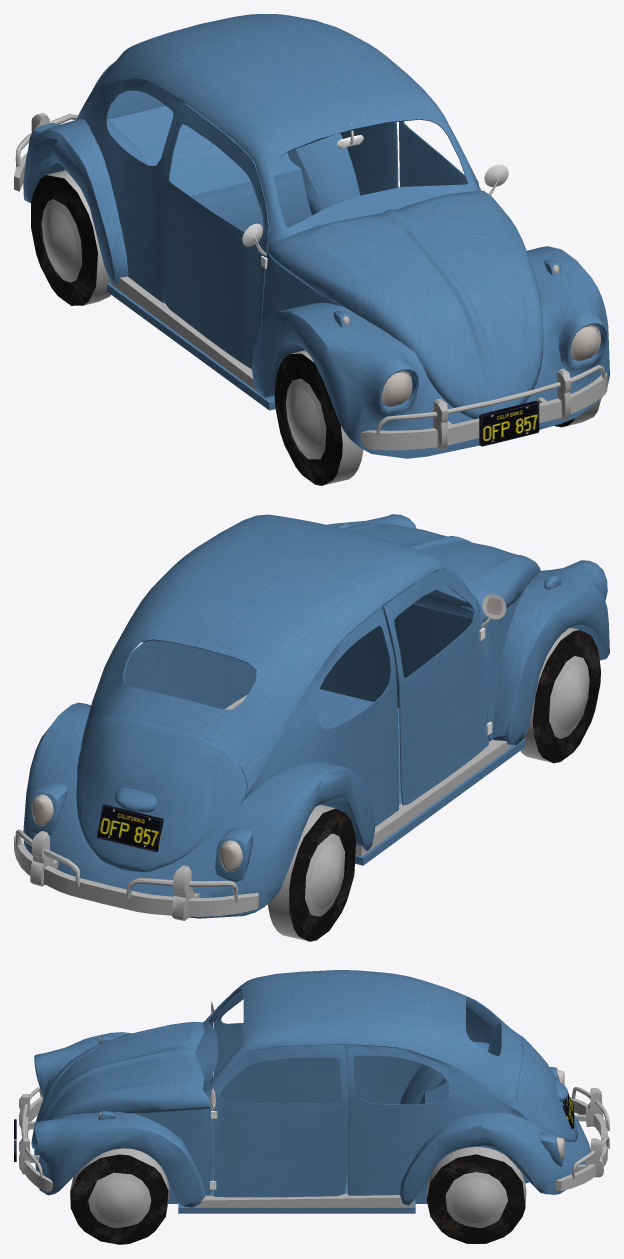
File: volkswagen-fusca.glb
3 views of the same model, one above another, from view 1: azimuth 30°, elevation 25°; view 2: azimuth 150°, elevation 25°; view 3: azimuth 270°, elevation 25° (orthographic). The views are drawn at different scales.
Parts seen in each view (by area): view 1: Cube.008, Plane.006, Plane.005, Cube.016, Circle.003, Plane.009, Cube.012, Cube.009, Cube.032; view 2: Cube.008, Plane.005, Cube.010, Cube.016, Circle.003, Plane.009, Cube.012, Plane.006, Cube.021; view 3: Cube.008, Cube.016, Plane.005, Circle.003, Plane.006, Plane.009, Cube.012, Cube.010.
Part boxes in pixels (<box>): Cube.008: <box>77,14,480,324</box>; Plane.006: <box>268,190,543,418</box>; Plane.005: <box>23,118,609,458</box>; Cube.016: <box>162,103,478,369</box>; Circle.003: <box>31,170,601,485</box>; Plane.009: <box>58,90,312,410</box>; Cube.012: <box>14,113,607,450</box>; Cube.009: <box>479,400,539,446</box>; Cube.032: <box>242,124,508,255</box>; Cube.008: <box>77,514,523,826</box>; Plane.005: <box>23,514,609,918</box>; Cube.010: <box>76,717,247,871</box>; Cube.016: <box>166,570,488,805</box>; Circle.003: <box>268,627,600,941</box>; Plane.009: <box>224,582,525,865</box>; Cube.012: <box>14,829,258,920</box>; Plane.006: <box>343,523,540,621</box>; Cube.021: <box>96,804,163,851</box>; Cube.008: <box>133,970,529,1195</box>; Cube.016: <box>213,990,348,1197</box>; Plane.005: <box>34,1032,590,1207</box>; Circle.003: <box>70,1146,526,1244</box>; Plane.006: <box>31,1021,210,1148</box>; Plane.009: <box>141,1023,529,1213</box>; Cube.012: <box>19,1087,609,1191</box>; Cube.010: <box>516,1036,577,1141</box>.
Size of the model in its own units: 1.81 by 1.68 by 4.41.
Materials: 7 (4 with a texture image).
